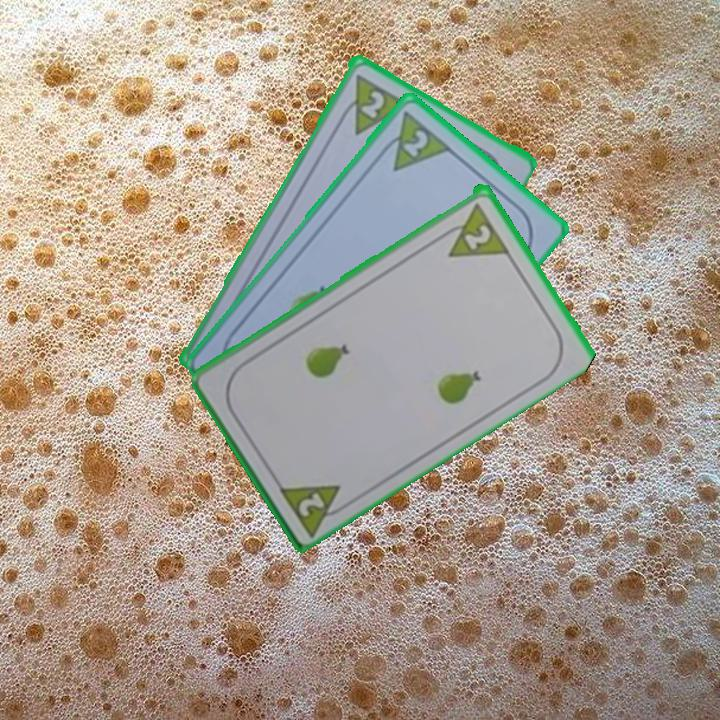2p: (333, 69, 410, 138), (398, 125, 431, 160), (460, 220, 494, 253), (294, 488, 328, 519)
